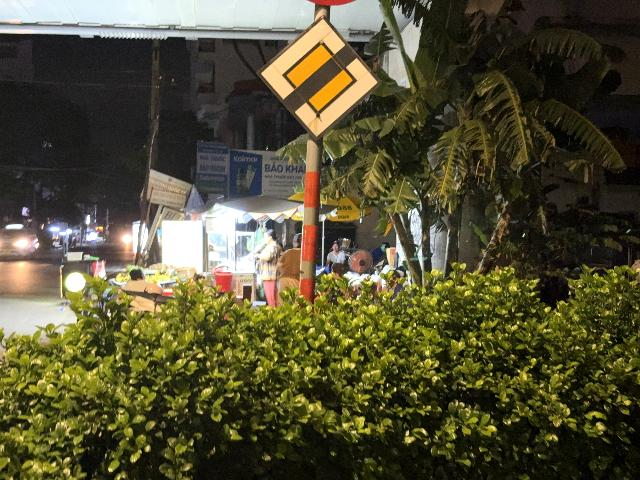het-duong-uu-tien: (256, 14, 384, 142)
